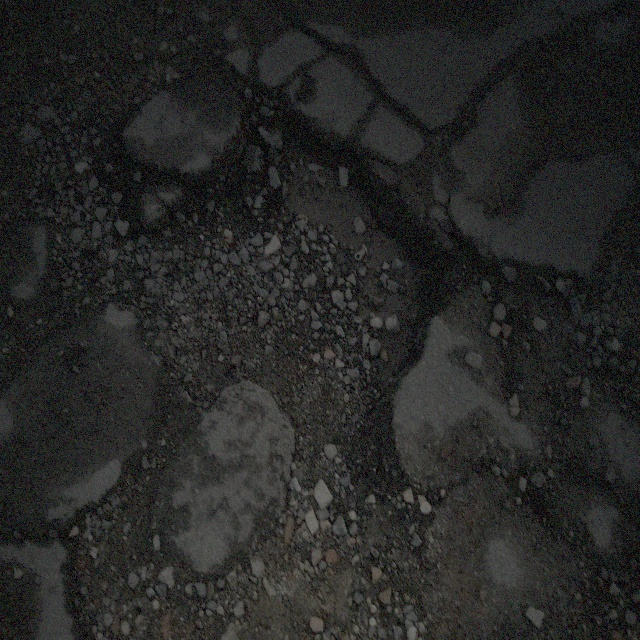pothole: (134, 117, 443, 467)
